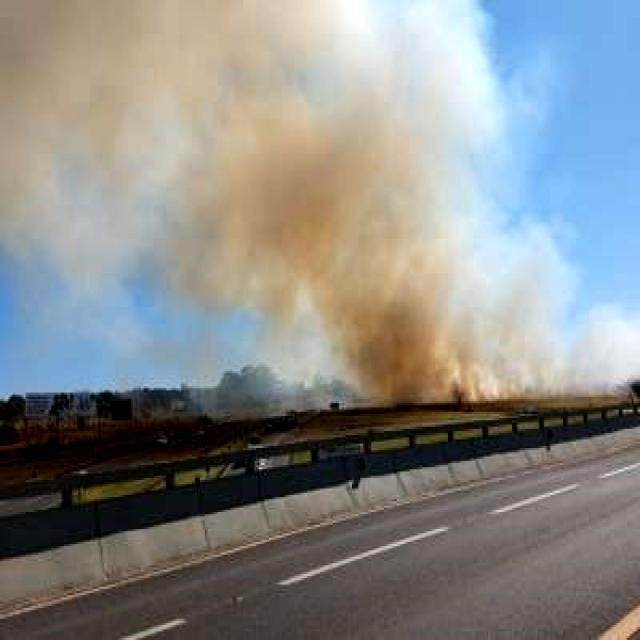Smoke: (0, 0, 456, 256), (163, 0, 424, 395)
